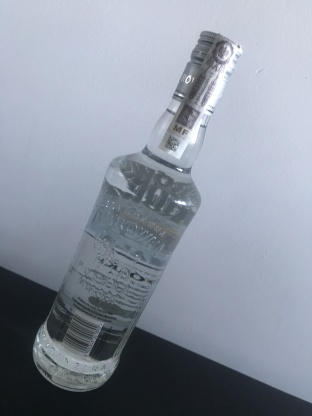nakretka: (170, 27, 243, 119)
